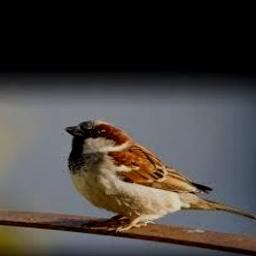Sparrow: (65, 120, 256, 232)
